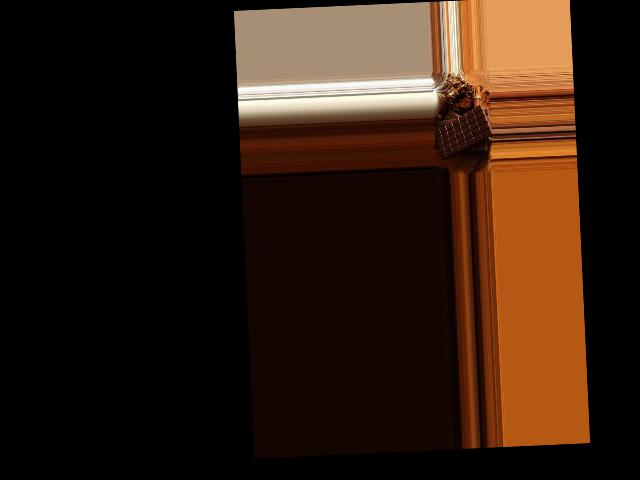chocolate: (435, 101, 493, 160)
